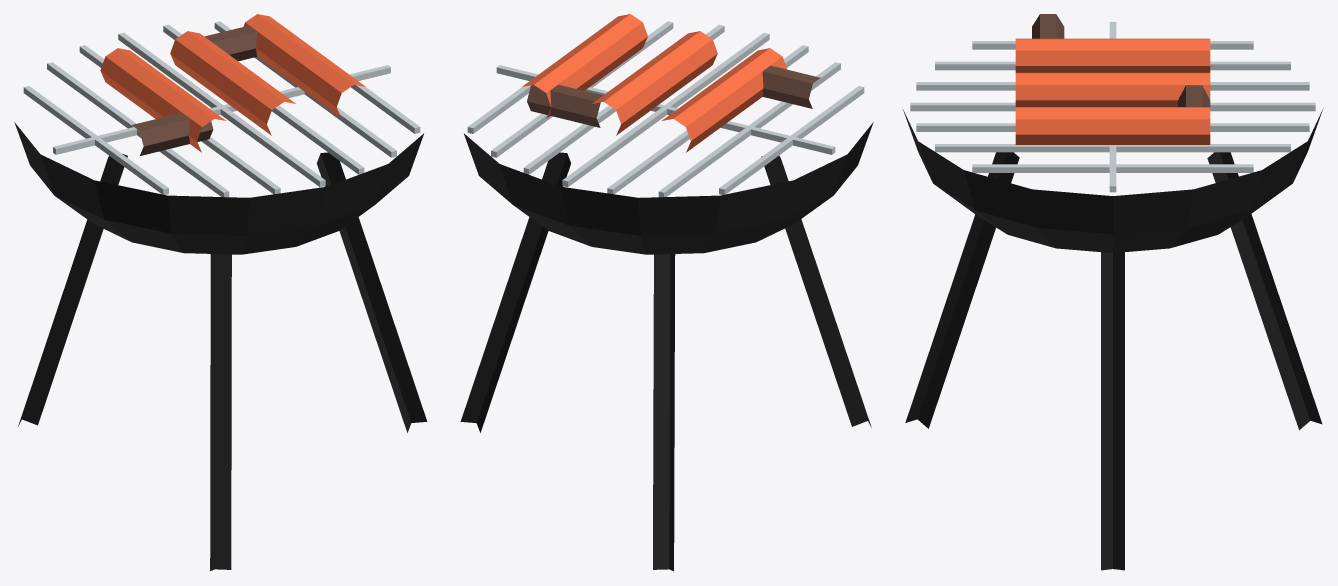
Rendered from grill.glb.
The picture shows the model from 3 angles, left to right: view 1: azimuth 30°, elevation 25°; view 2: azimuth 150°, elevation 25°; view 3: azimuth 270°, elevation 25°; orthographic projection.
Visible parts, largest first — view 1: grill; view 2: grill; view 3: grill.
Part boxes in pixels (<box>): grill: <box>14,14,427,571</box>; grill: <box>460,14,873,571</box>; grill: <box>903,14,1322,570</box>.
Size of the model in its own units: 0.5542 by 0.5596 by 0.52.
